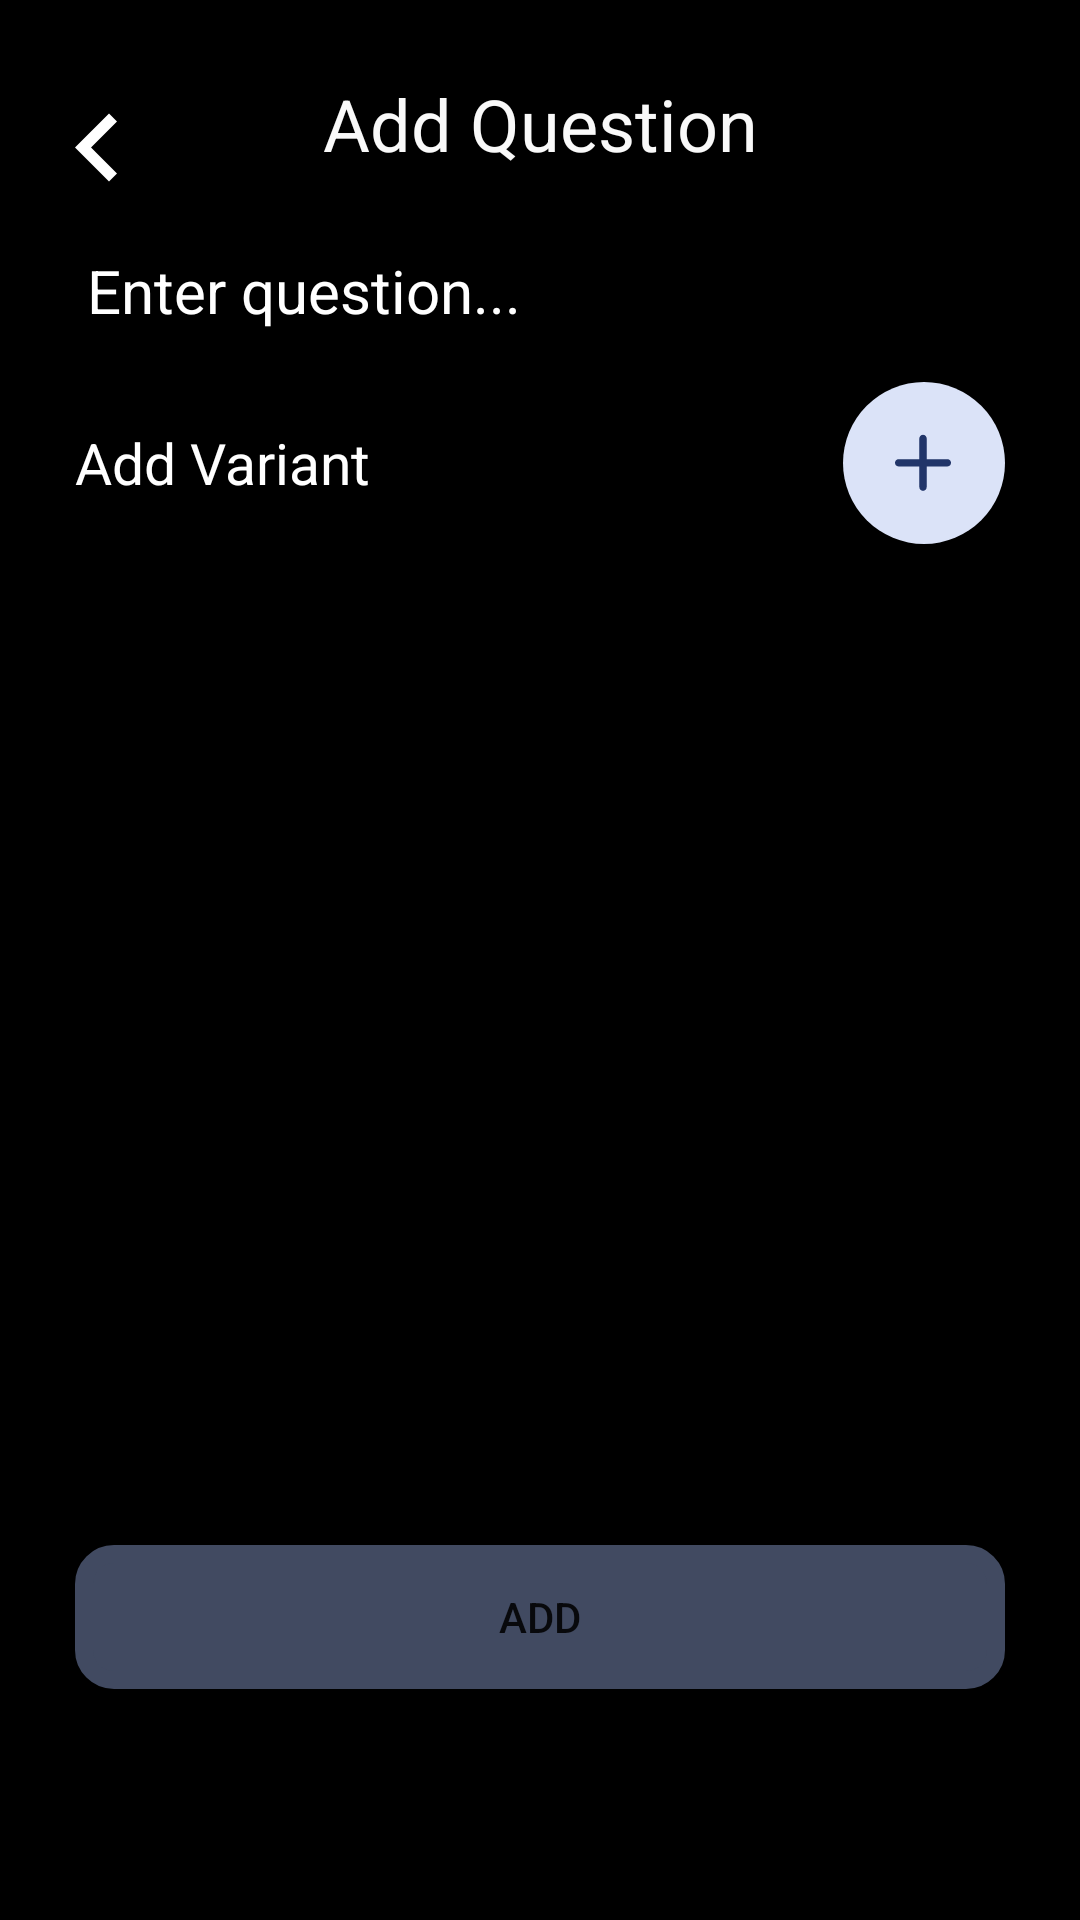

Where icons sit on this 1080x1920 app screen, as {"left": x1, "top": y1, "right": x2, "bottom": y2}:
add item: {"left": 843, "top": 382, "right": 1005, "bottom": 544}
arrow back: {"left": 75, "top": 113, "right": 117, "bottom": 182}
